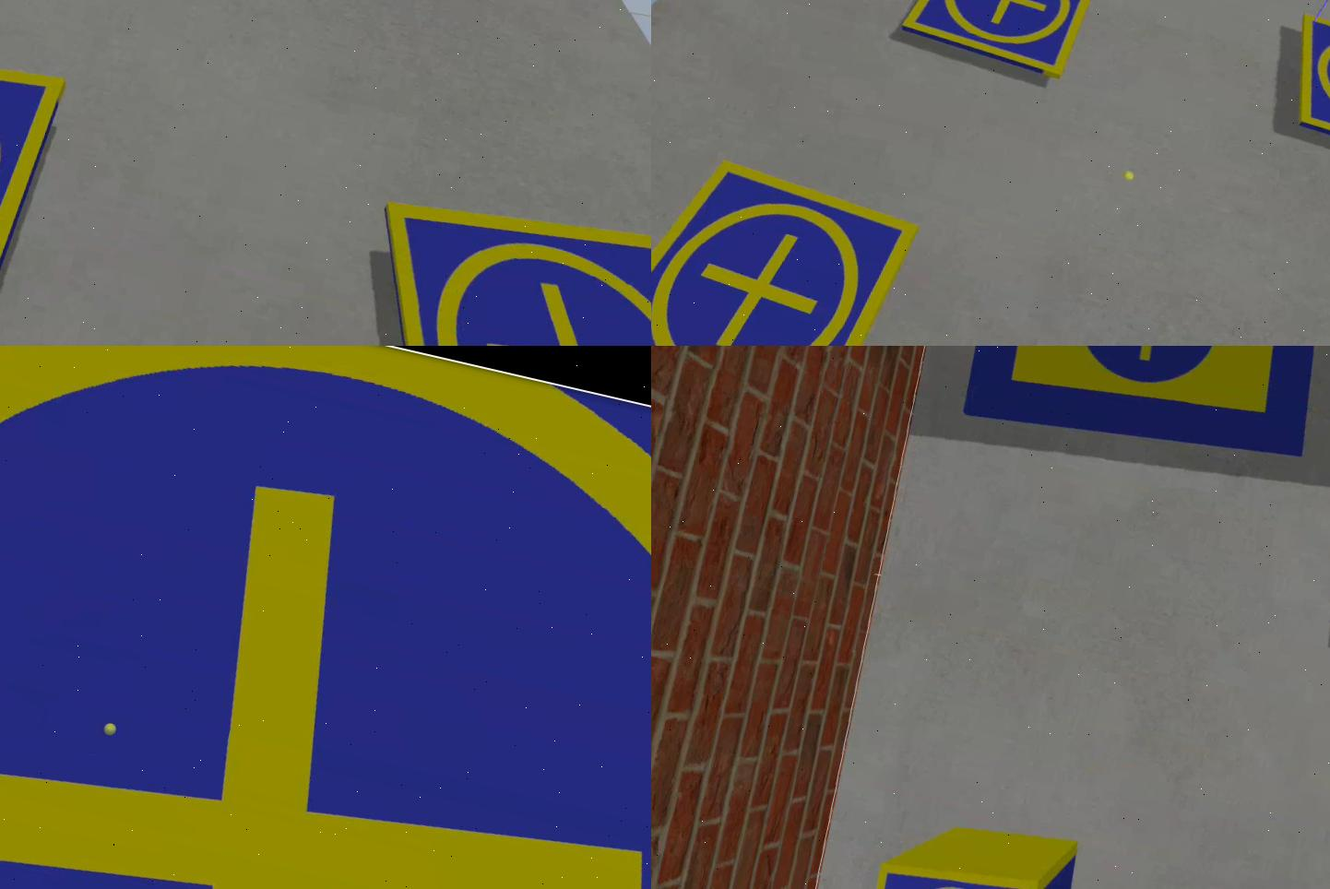large_base: (953, 347, 1330, 497)
small_base: (1, 347, 652, 889), (319, 179, 652, 347), (652, 141, 922, 347), (897, 1, 1101, 84), (1277, 13, 1330, 184), (859, 844, 1053, 889)
